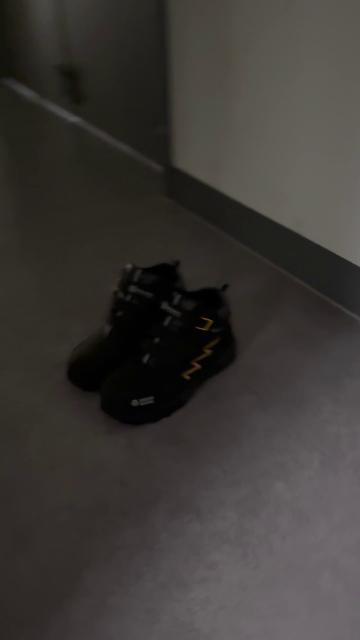shoe_worn: (97, 279, 234, 428), (64, 258, 190, 396)
